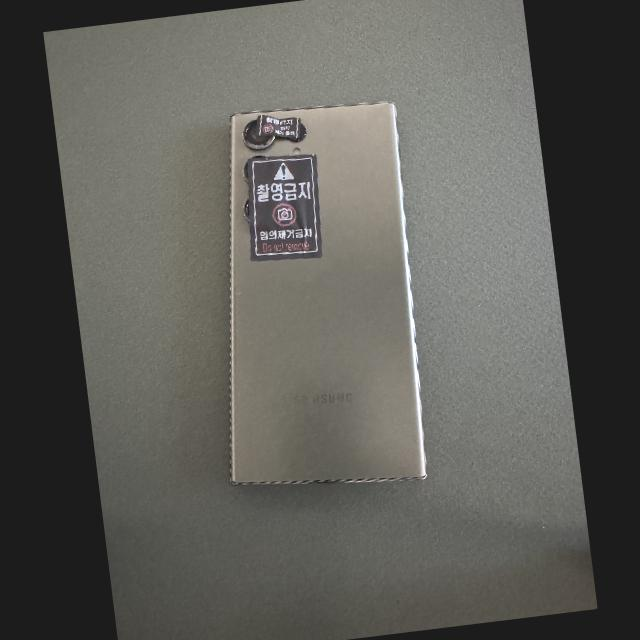lens: (244, 121, 274, 149), (291, 124, 306, 140), (244, 198, 250, 221), (243, 161, 248, 181)
phone: (230, 101, 426, 484)
sticker: (247, 153, 322, 261), (256, 114, 300, 137)
